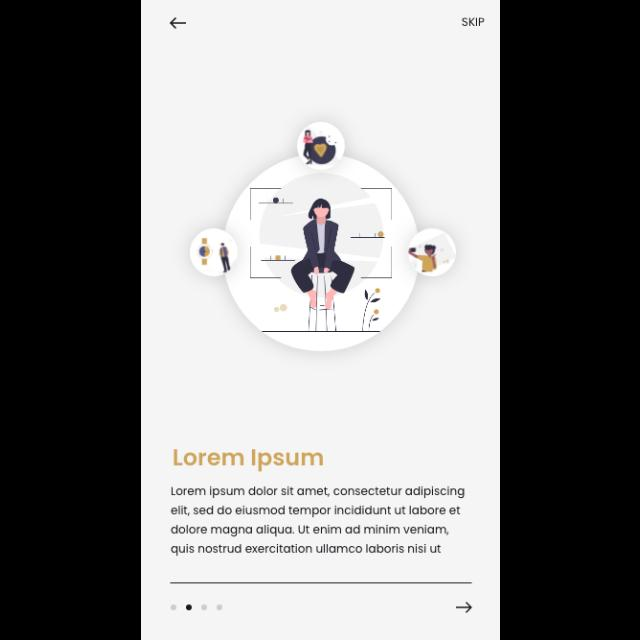icon: (169, 18, 187, 30), (456, 601, 472, 613)
image: (189, 121, 457, 352)
pageindicator: (170, 604, 223, 610)
text: (170, 486, 466, 556), (173, 449, 323, 473), (461, 16, 485, 28)
